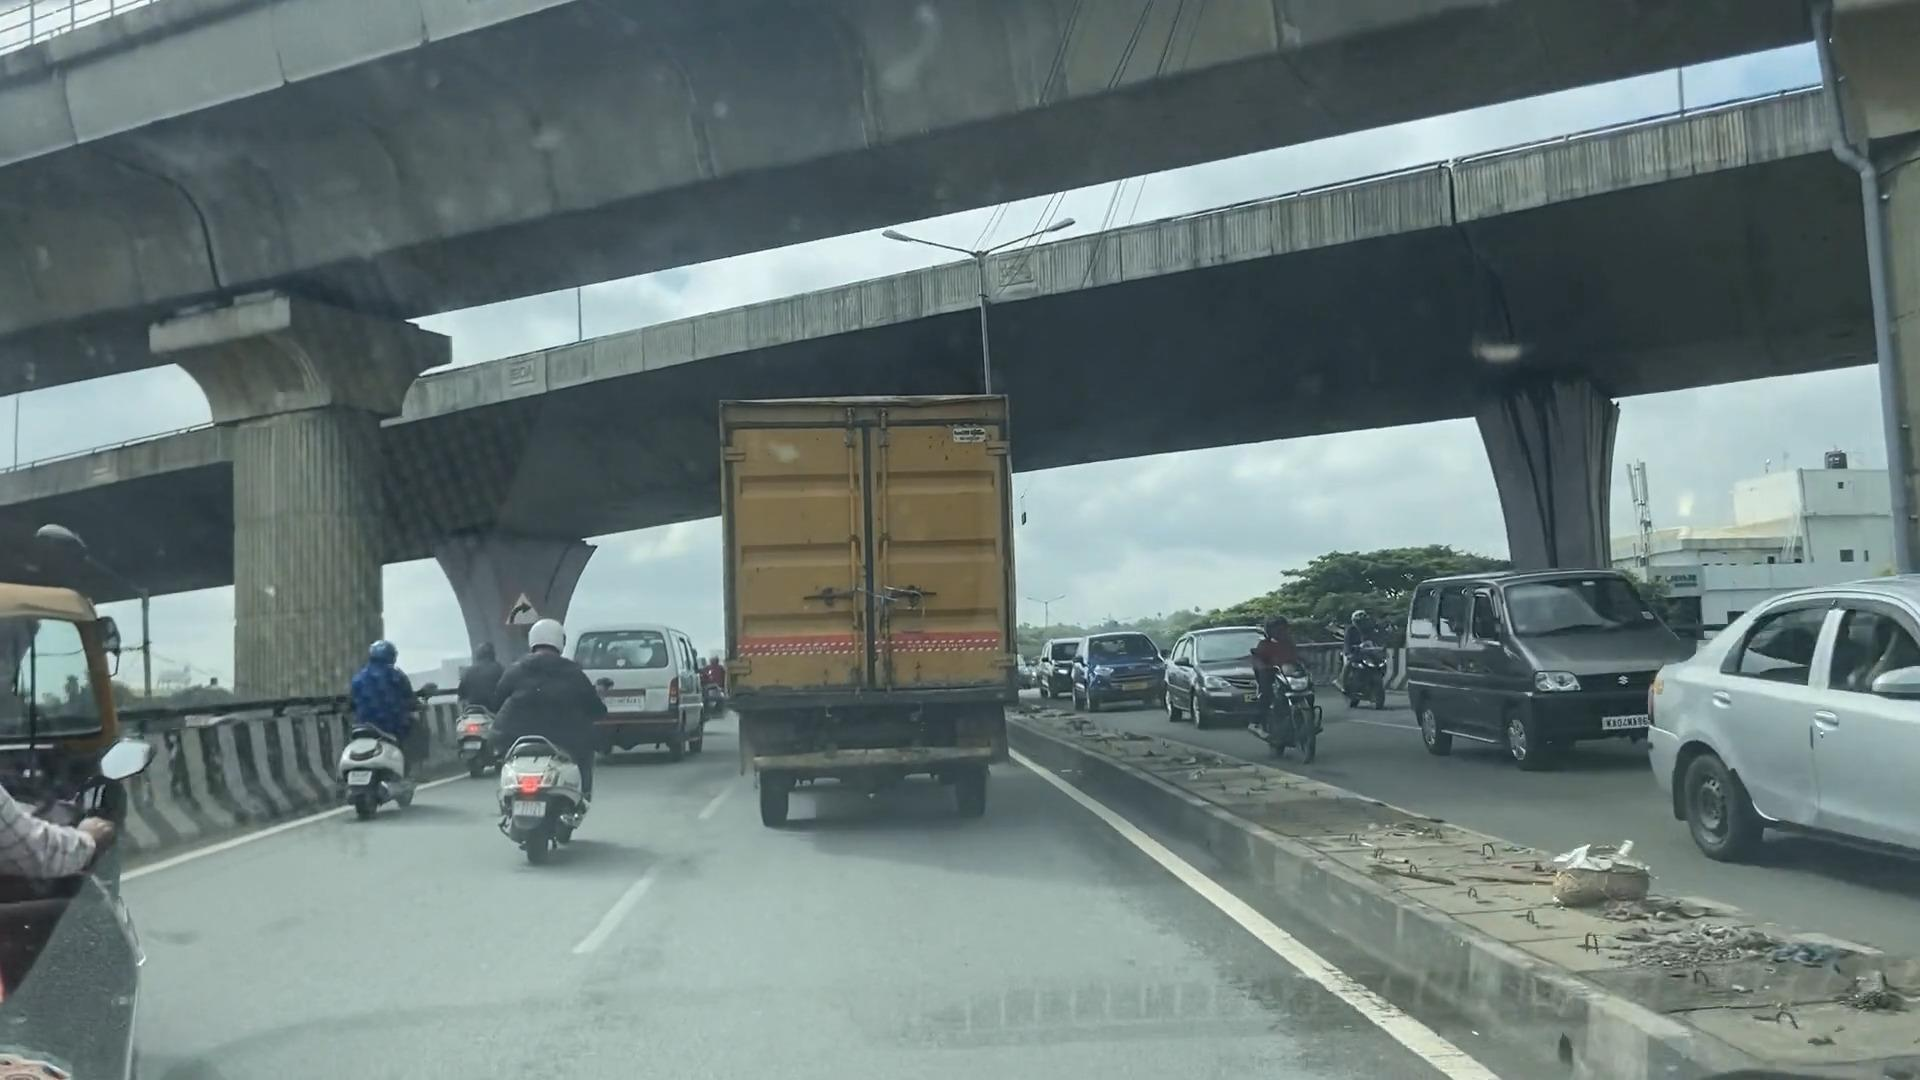HMV: (713, 393, 1021, 804)
LMV: (504, 613, 600, 856), (343, 640, 426, 814)
